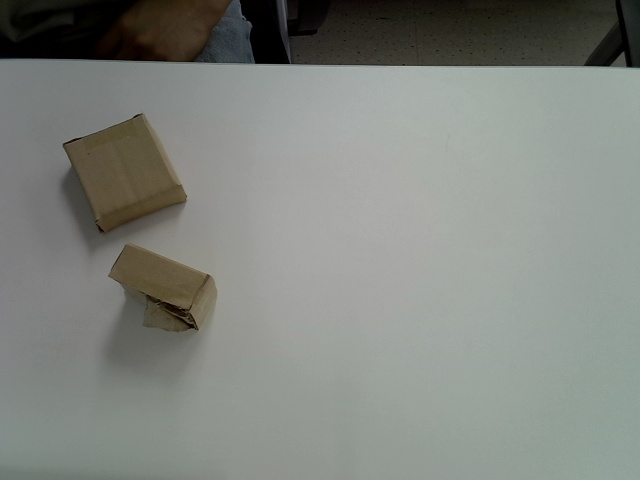defect: (107, 244, 217, 331)
normal: (61, 111, 189, 233)
